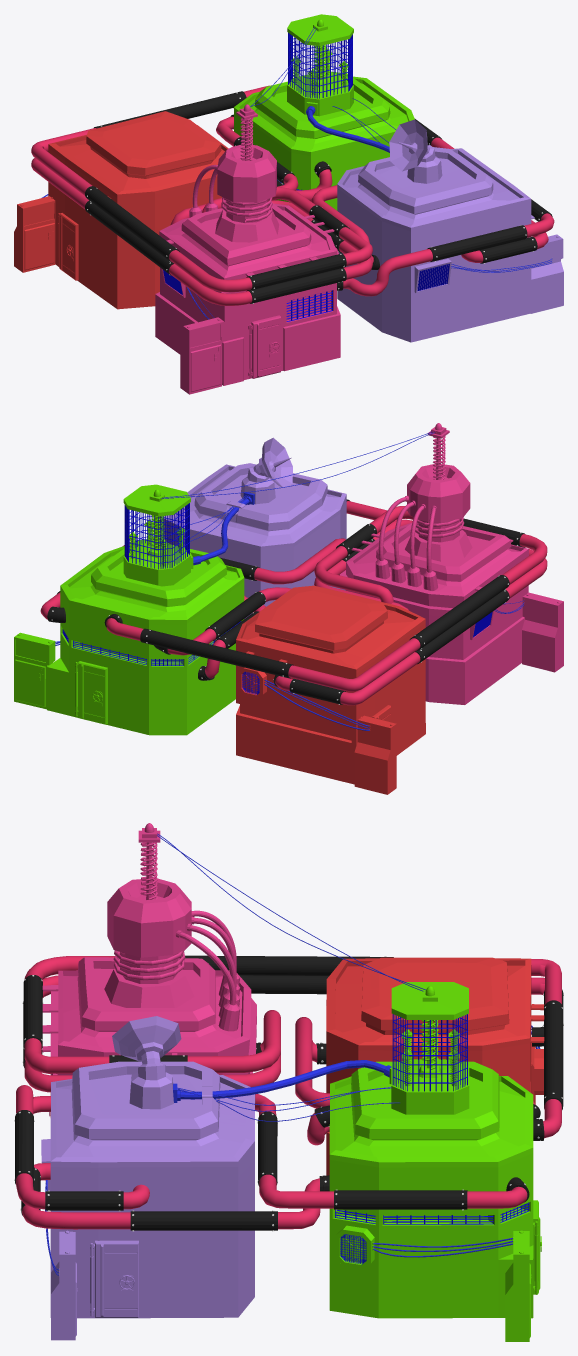
The model's file is Fabrica.fbx.
3 views of the same model, one above another, from view 1: azimuth 30°, elevation 25°; view 2: azimuth 150°, elevation 25°; view 3: azimuth 270°, elevation 25° (orthographic). The views are drawn at different scales.
Visible parts, largest first — view 1: Box003, Box001, Box002, Cube.022, Box005, Box007, Cube.005, Obj_TT_tube.005; view 2: Cube.022, Box002, Box001, Box003, Box005, Box007, Cube.005, Obj_TT_tube.005; view 3: Cube.022, Box003, Box001, Box002, Box007, Box005, Cube.005, Obj_TT_tube.005.
Boxes of the visible parts, x1,y1,x2,y2 form: Box003: (337, 119, 563, 342); Box001: (155, 104, 340, 394); Box002: (14, 111, 228, 309); Cube.022: (233, 14, 414, 210); Box005: (31, 85, 554, 305); Box007: (85, 91, 552, 303); Cube.005: (163, 33, 449, 321); Obj_TT_tube.005: (42, 27, 552, 319); Cube.022: (14, 484, 244, 735); Box002: (236, 585, 425, 794); Box001: (339, 423, 563, 704); Box003: (160, 437, 346, 618); Box005: (40, 501, 547, 705); Box007: (47, 499, 525, 704); Cube.005: (62, 503, 492, 694); Obj_TT_tube.005: (55, 431, 524, 730); Cube.022: (329, 982, 541, 1341); Box003: (41, 1016, 255, 1340); Box001: (42, 823, 256, 1117); Box002: (326, 957, 544, 1175); Box007: (15, 955, 563, 1230); Box005: (16, 956, 561, 1229); Cube.005: (335, 1014, 529, 1264); Obj_TT_tube.005: (45, 833, 540, 1275).
Size of the model in its own units: 1106 by 688 by 1035.
